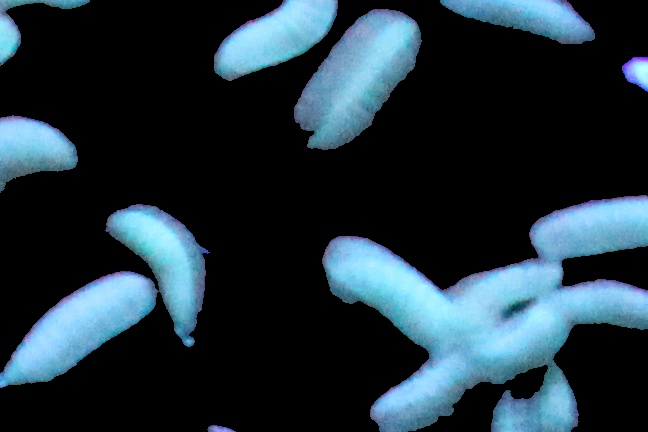larvae: (6, 273, 162, 397), (288, 13, 420, 137), (322, 236, 454, 352), (115, 203, 208, 346), (370, 356, 472, 432), (1, 107, 80, 200), (533, 194, 648, 257), (426, 1, 593, 44), (226, 8, 338, 68), (467, 303, 567, 368), (443, 251, 563, 302), (559, 279, 648, 330)
